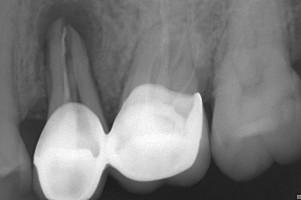Furcation Involvement: (34, 1, 105, 79)
